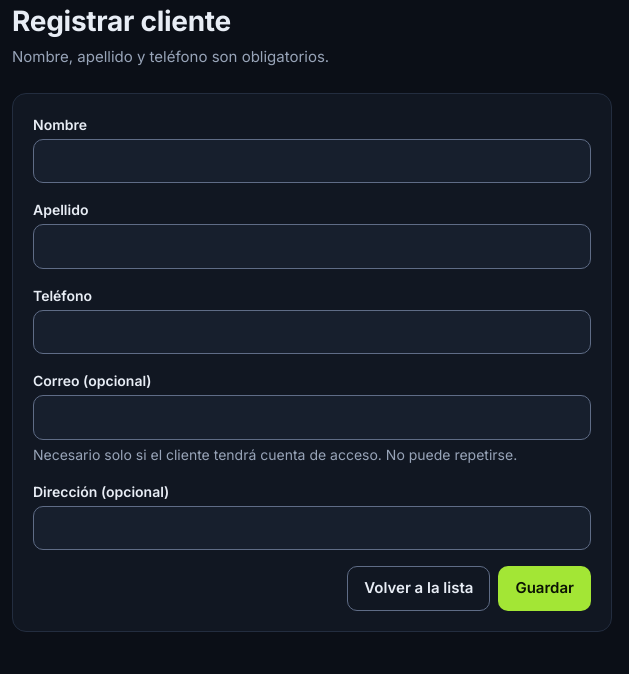
Test case: ClienteForm › muestra el error de correo duplicado que devuelve la API junto al campo
Type "Clara" into the field labelled "Nombre" at (312, 161), box 33,138 -> 591,183
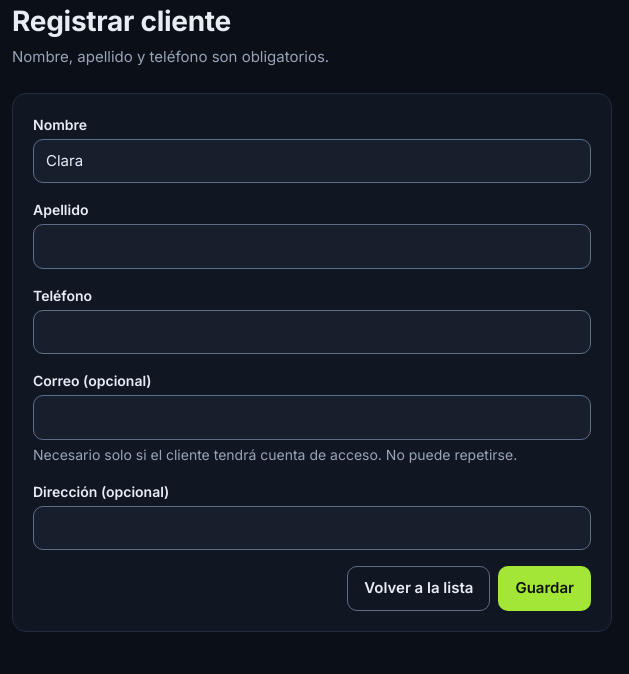
Type "Prueba" into the field labelled "Apellido" at (312, 246), box 33,224 -> 591,268
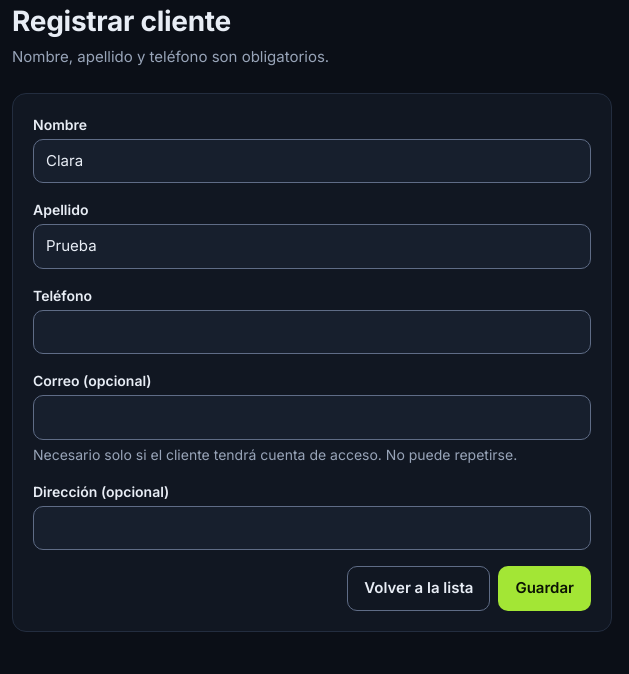
Type "555 123 4567" into the field labelled "Teléfono" at (312, 332), box 33,310 -> 591,354
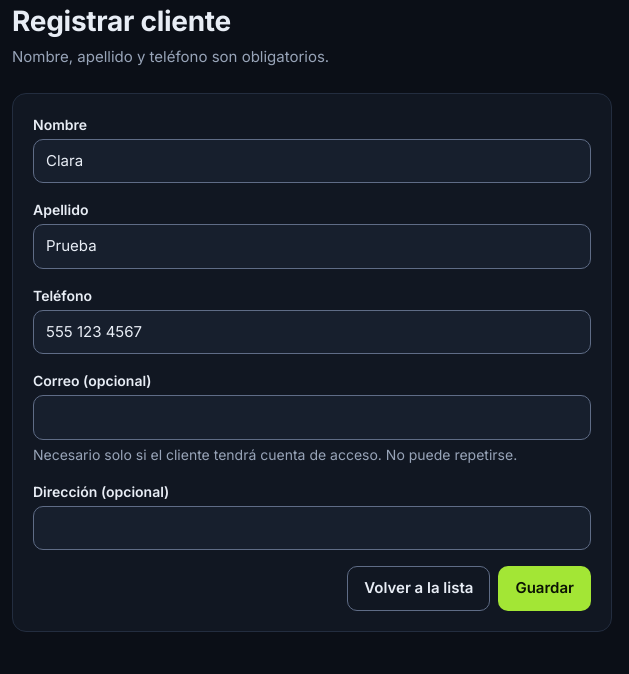
Type "repetido@example.com" into the field labelled "Correo (opcional)" at (312, 417), box 33,395 -> 591,440
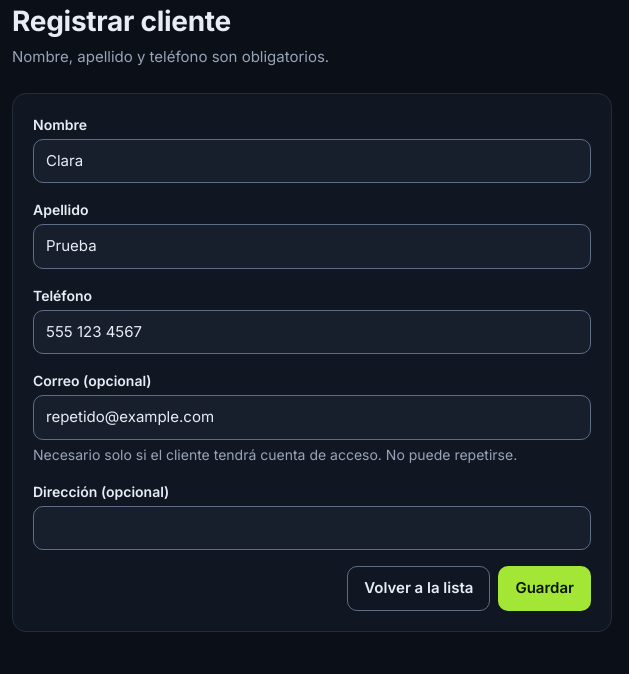
Click the button "Guardar" at (545, 588), box 498,566 -> 591,610
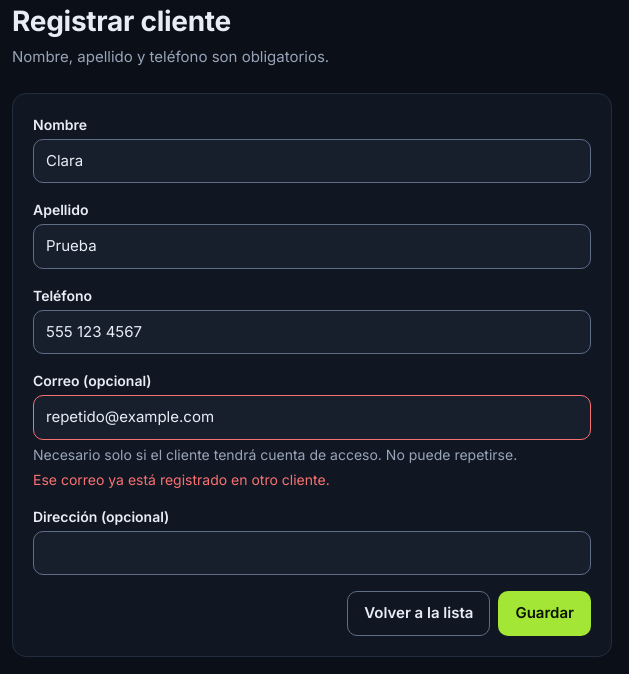
Now the text "Ese correo ya está registrado en otro cliente." is shown, box 33,470 -> 330,488
